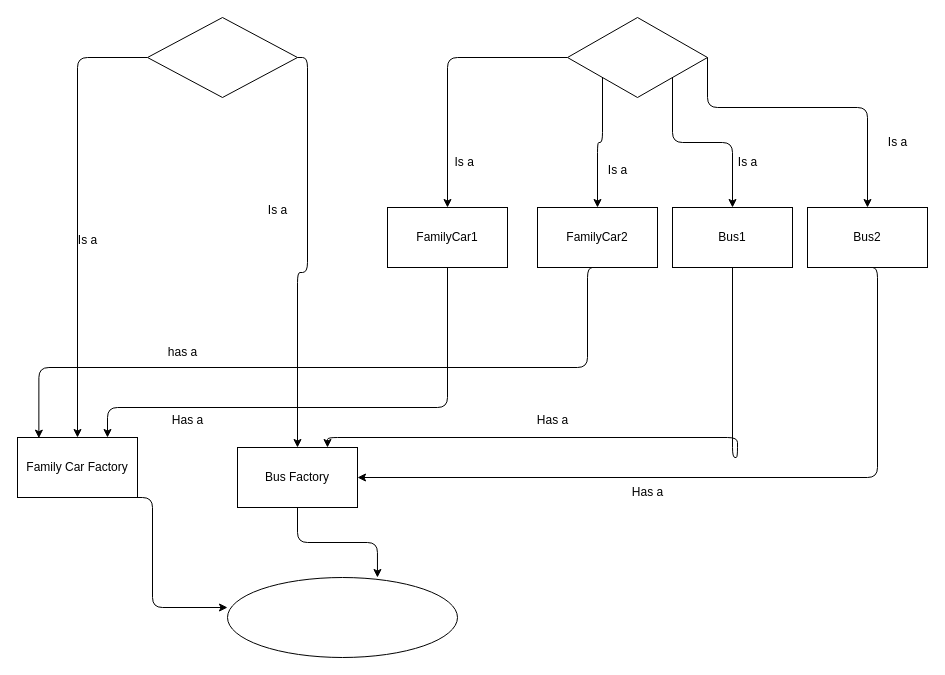
Some shapes in this 945 by 675 pixel diagram are drawn without their labels. Here are the shapes that lost their labels. From the top down, the box of each, then its label:
(146, 16, 298, 98): Factory Interface
(566, 16, 708, 98): Vehicle Interface
(226, 576, 458, 658): Main
